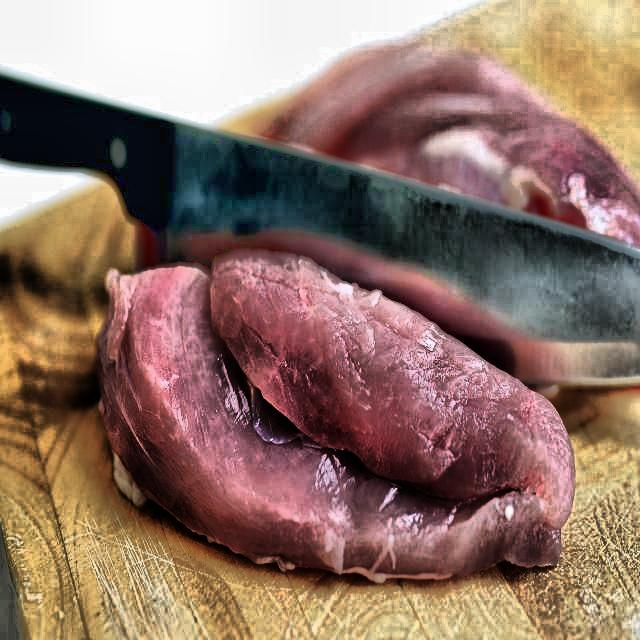knife: (0, 66, 638, 398)
